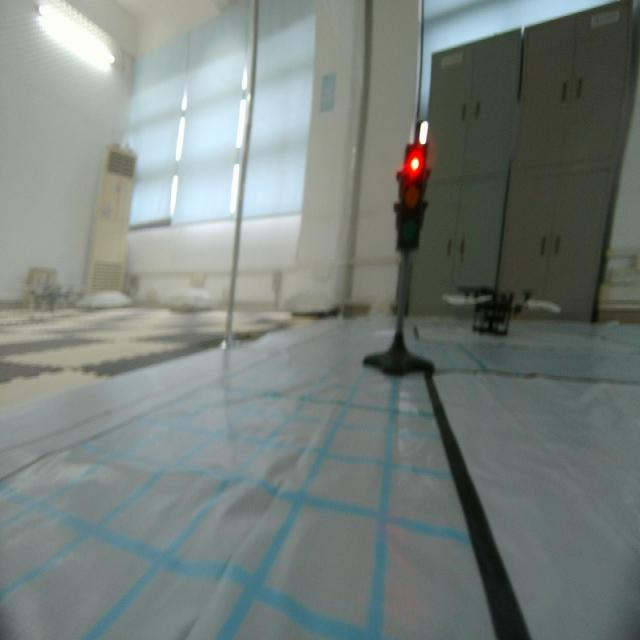red: (391, 139, 431, 259)
